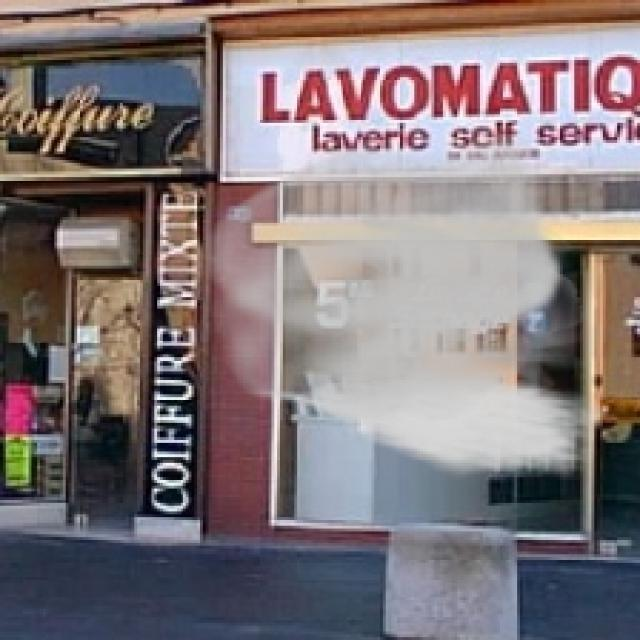Smoke: (192, 131, 612, 480)
